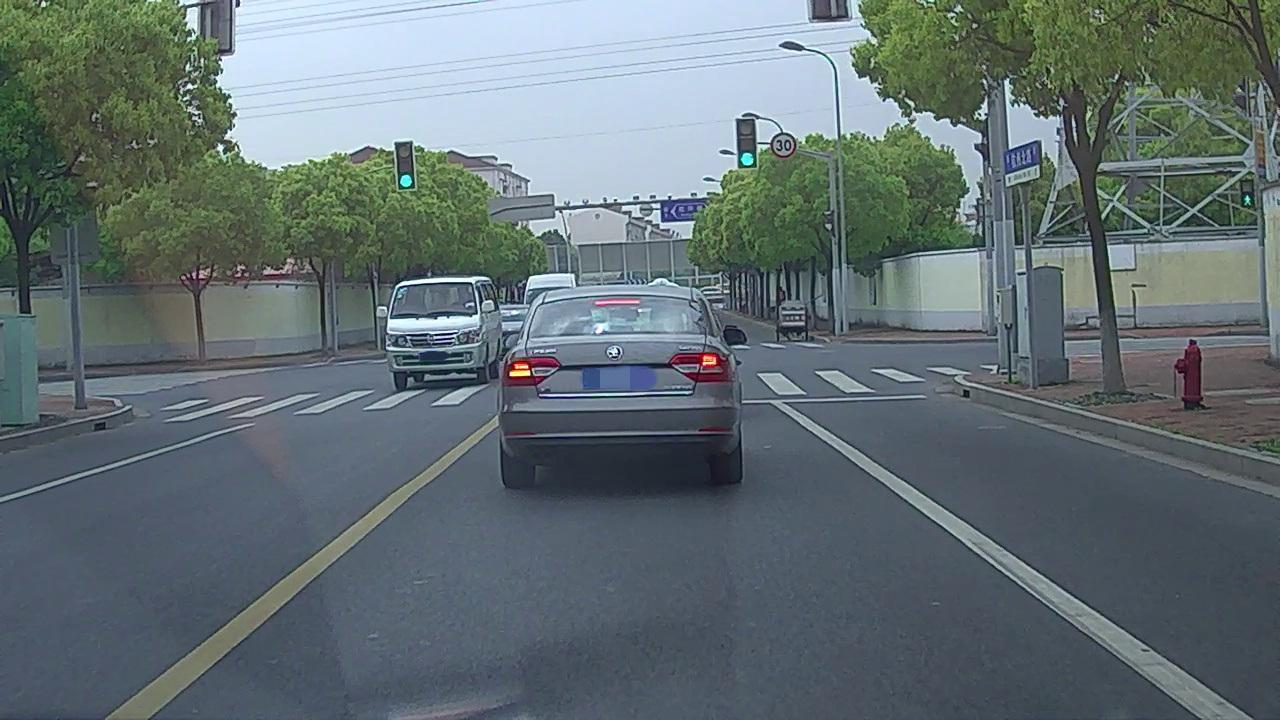traffic_light: (737, 117, 759, 169), (394, 142, 415, 191)
